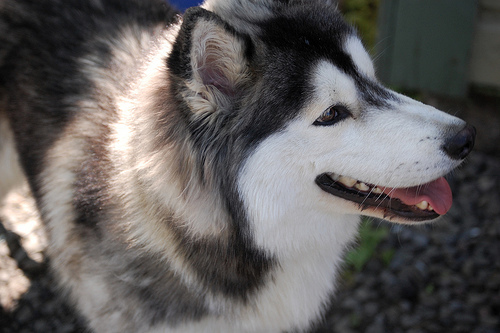dog: (3, 1, 476, 332)
